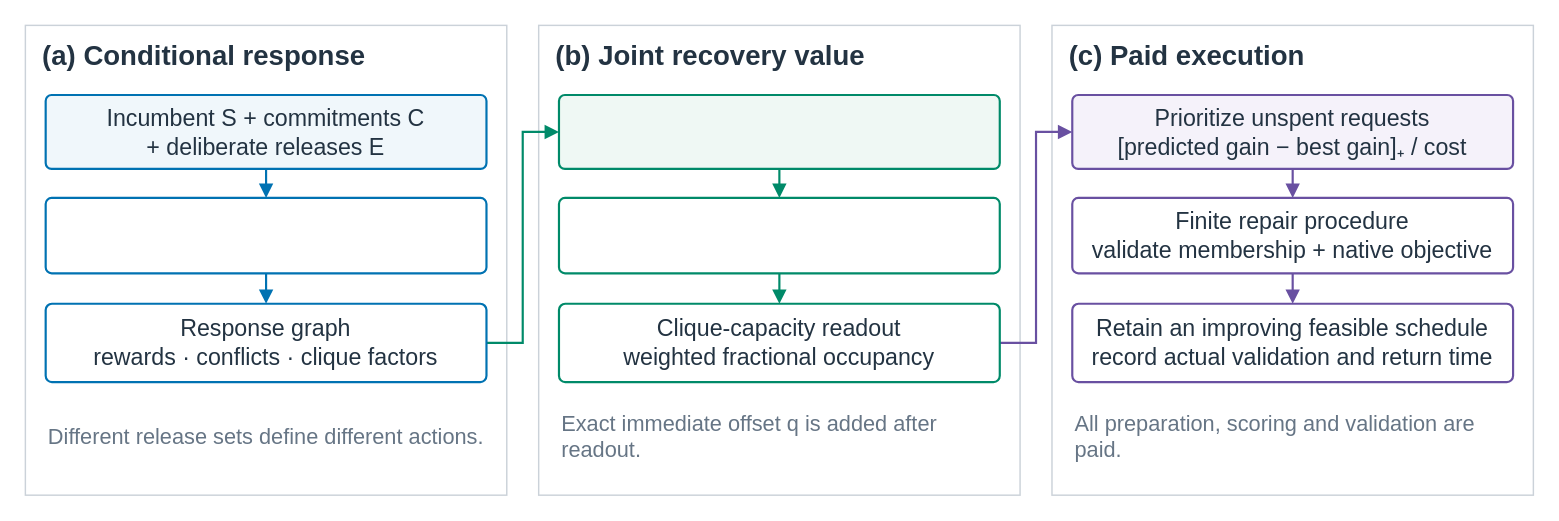
Image size: 1559x521. Some labels were removed from this diagram. Here are the shapes that lost their labels. From the top down, the box of each, then its label:
(557, 93, 1000, 169): Shared structural encoder one paid encoding per (R, warm)
(44, 196, 487, 274): Fixed base B; nested repair sets R Actual known feasible warm set
(557, 196, 1000, 274): Request head native work budget + remaining time
